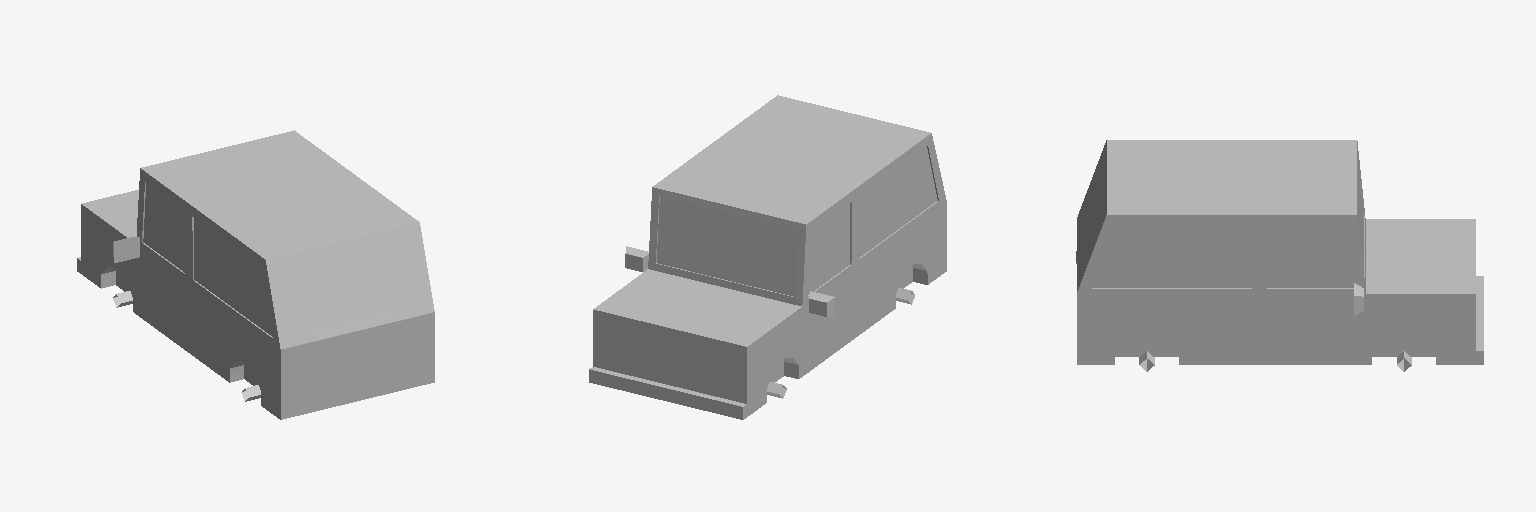
The model's file is car_body.obj.
3 views of the same model, side by side, from view 1: azimuth 30°, elevation 25°; view 2: azimuth 150°, elevation 25°; view 3: azimuth 270°, elevation 25° (orthographic).
Size of the model in its own units: 3.16 by 2.26 by 5.32.